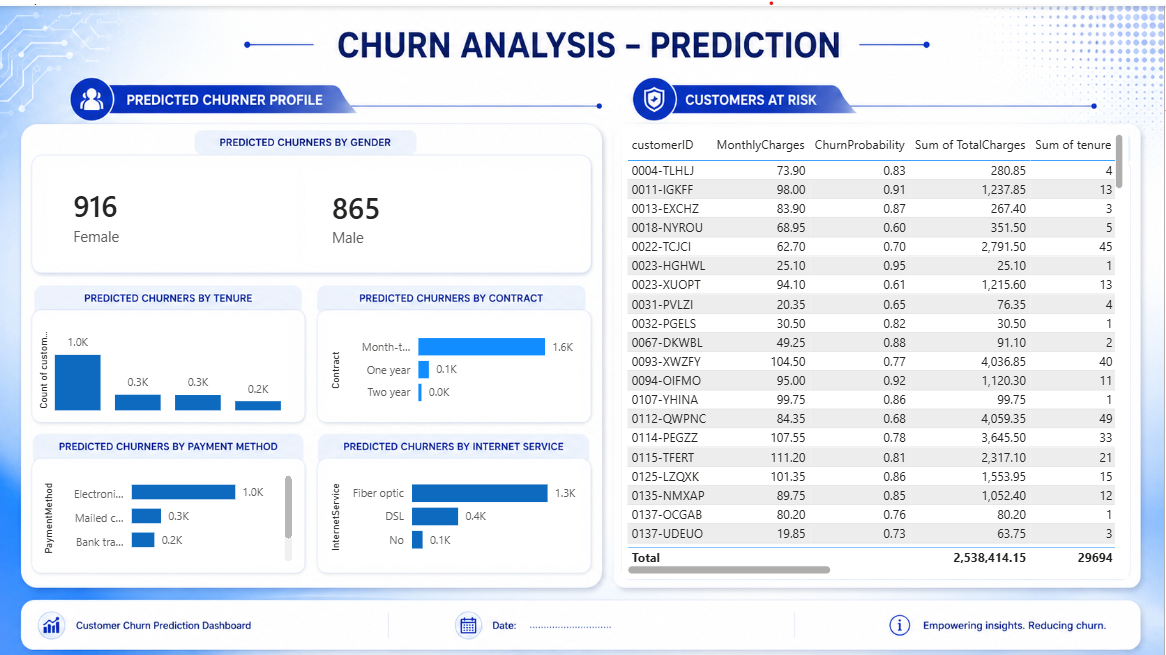

This screenshot's page, from the dashboard's own definition file:
{"tool":"powerbi","page":{"name":"Churn prediction","canvas":[1280,720],"ordinal":1},"visuals":[{"type":"tableEx","fields":{"Values":["telco_churn_predictions.customerID","telco_churn_predictions.MonthlyCharges","telco_churn_predictions.ChurnProbability","Sum(telco_churn_predictions.TotalCharges)","Sum(telco_churn_predictions.tenure)","telco_churn_predictions.Contract","telco_churn_predictions.PaymentMethod","telco_churn_predictions.InternetService","telco_churn_predictions.TechSupport","telco_churn_predictions.OnlineSecurity","telco_churn_predictions.PredictedChurnLabel"]},"box":[684.7,135.8,555.7,492.6],"z":0},{"type":"cardVisual","fields":{"Data":["telco_churn_predictions.Predicted Female Churners"]},"box":[53.5,178.4,274,104],"z":4000},{"type":"cardVisual","fields":{"Data":["telco_churn_predictions.Predicted Male Churners"]},"box":[337.6,179.8,302,104],"z":5000},{"type":"clusteredColumnChart","title":"Predicted Churners by Tenure","fields":{"Category":["telco_churn_predictions.TenureGroup"],"Y":["CountNonNull(telco_churn_predictions.customerID)"]},"box":[39.8,341.7,278.6,108.4],"z":7000},{"type":"clusteredBarChart","title":"Predicted Churners by Contract","fields":{"Category":["telco_churn_predictions.Contract"],"Y":["CountNonNull(telco_churn_predictions.customerID)"],"Series":["telco_churn_predictions.PredictedChurnLabel"]},"box":[360.9,341.7,278.6,108.4],"z":8000},{"type":"clusteredBarChart","title":"Predicted Churners by Payment Method","fields":{"Category":["telco_churn_predictions.PaymentMethod"],"Y":["CountNonNull(telco_churn_predictions.customerID)"]},"box":[45.3,502.2,282.7,112.5],"z":9000},{"type":"clusteredBarChart","title":"Predicted Churners by Internet Service","fields":{"Category":["telco_churn_predictions.InternetService"],"Y":["CountNonNull(telco_churn_predictions.customerID)"]},"box":[360.9,502.2,278.6,109.8],"z":10000}]}

Visuals, with their boxes in screenshot pixels (x1, y1, x2, y2), scaled from the page's 1280x720 canvas onto the 1166x655 screenshot:
tableEx - telco_churn_predictions.customerID x telco_churn_predictions.MonthlyCharges: (left=624, top=124, right=1130, bottom=572)
cardVisual - telco_churn_predictions.Predicted Female Churners: (left=49, top=162, right=298, bottom=257)
cardVisual - telco_churn_predictions.Predicted Male Churners: (left=308, top=164, right=583, bottom=258)
"Predicted Churners by Tenure" clusteredColumnChart: (left=36, top=311, right=290, bottom=409)
"Predicted Churners by Contract" clusteredBarChart: (left=329, top=311, right=583, bottom=409)
"Predicted Churners by Payment Method" clusteredBarChart: (left=41, top=457, right=299, bottom=559)
"Predicted Churners by Internet Service" clusteredBarChart: (left=329, top=457, right=583, bottom=557)
